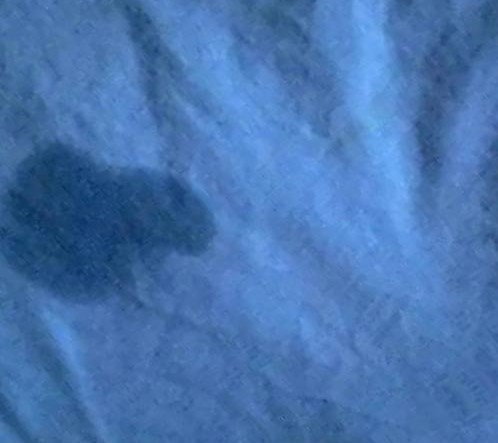stain: (0, 137, 225, 312)
